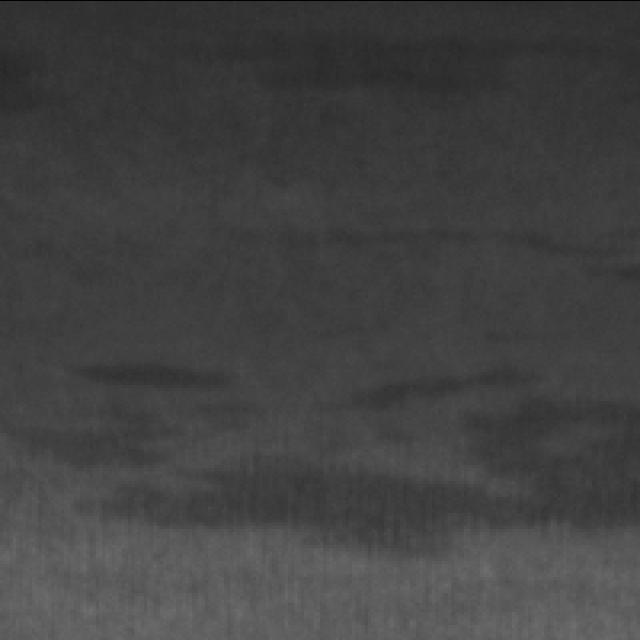inclusion: (180, 4, 574, 100), (57, 477, 530, 542), (209, 208, 579, 264), (452, 389, 628, 493), (312, 358, 472, 431), (41, 345, 238, 402)
